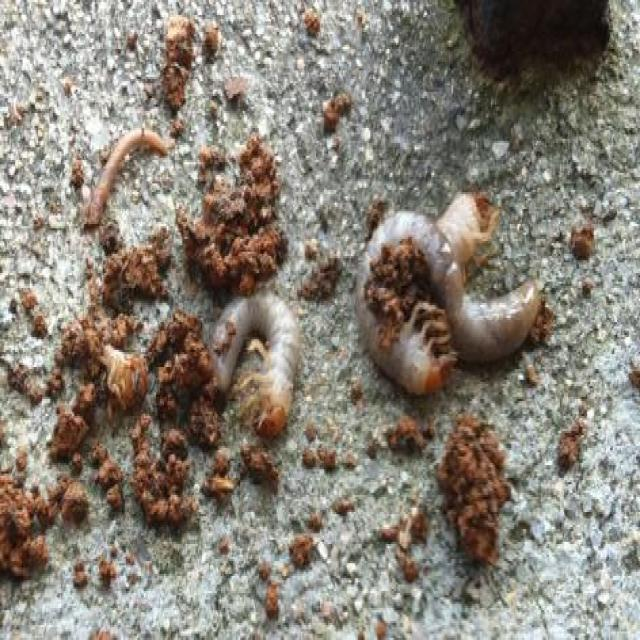Grub-Adult-: (342, 173, 458, 389), (194, 260, 315, 467), (423, 177, 553, 369)
